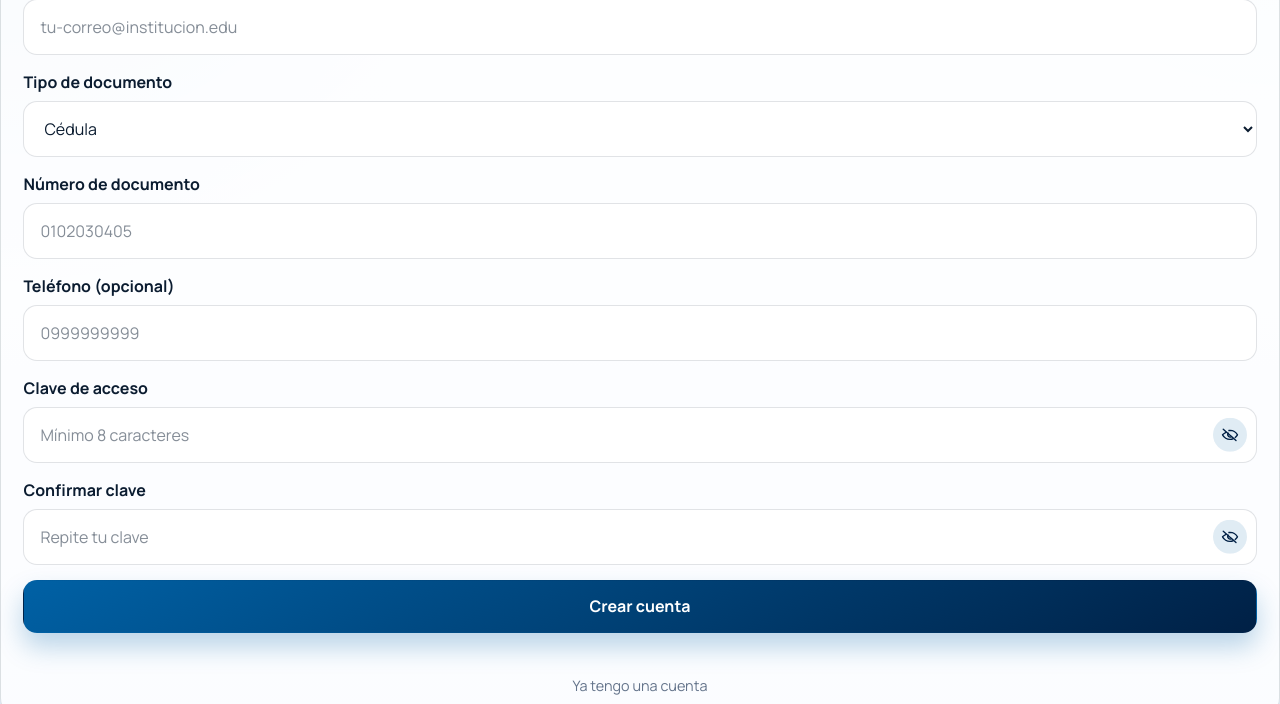
Test: RegisterForm › lets the user reveal the password
The width and height of the screenshot is (1280, 704).
(page scrolled)
Type "Password123" into the password field labelled "Clave de acceso" at [640, 435], box [23,407,1257,463]
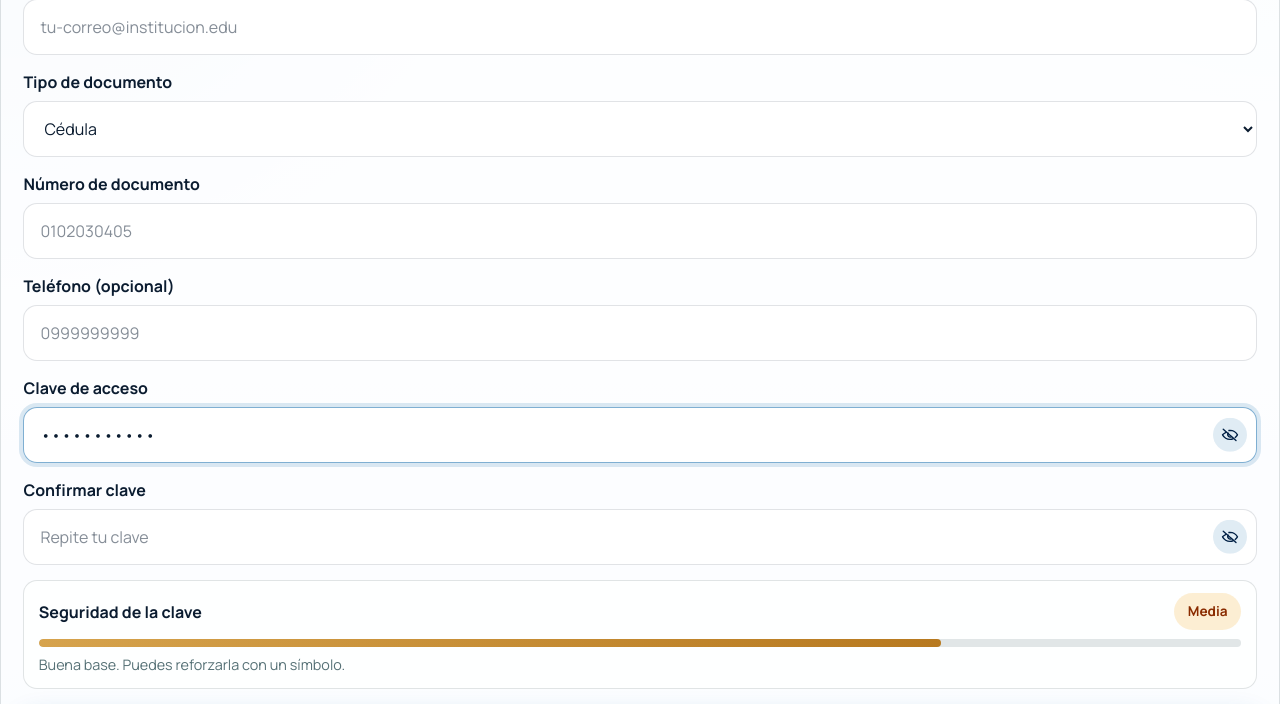
Expected: the text "Media" is shown, [1174,593,1241,630]
Expected: the text "Buena base. Puedes reforzarla con un símbolo." is shown, [39,654,345,674]
Click the button named "Mostrar clave" at [1230, 435], box [1213,418,1247,452]
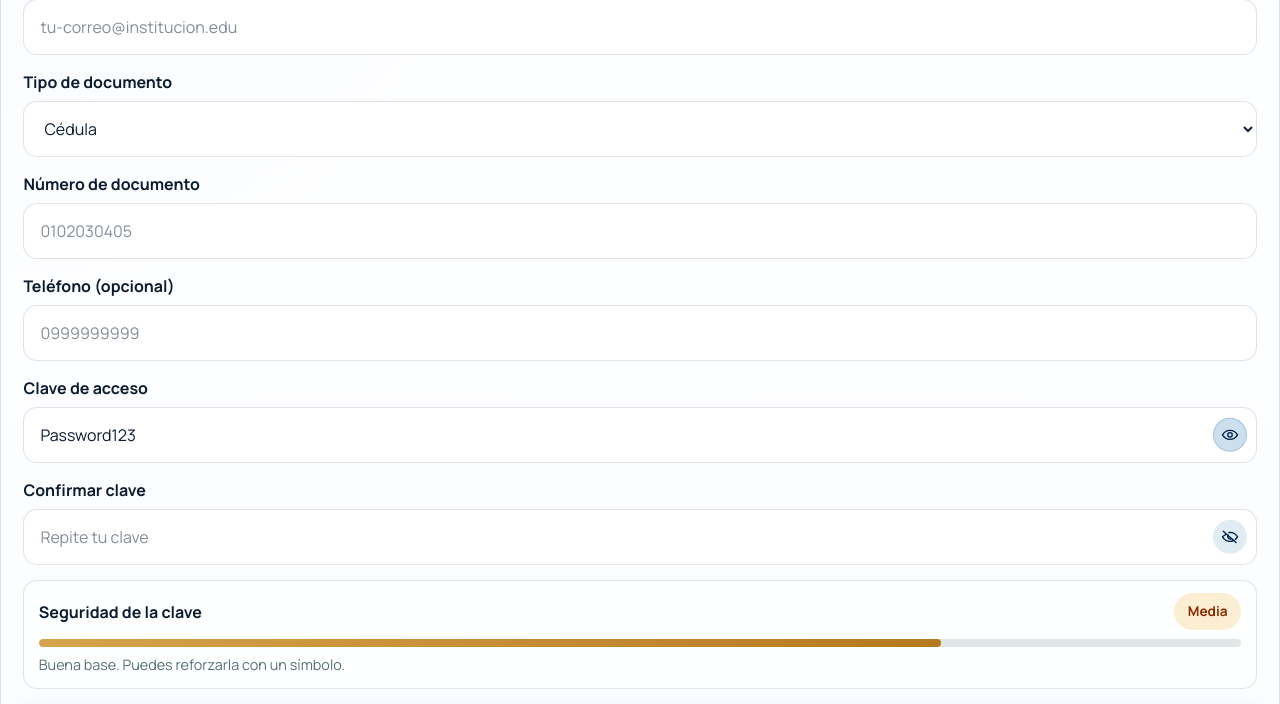
Expected: the field labelled "Clave de acceso" shows its text, [23,407,1257,463]
